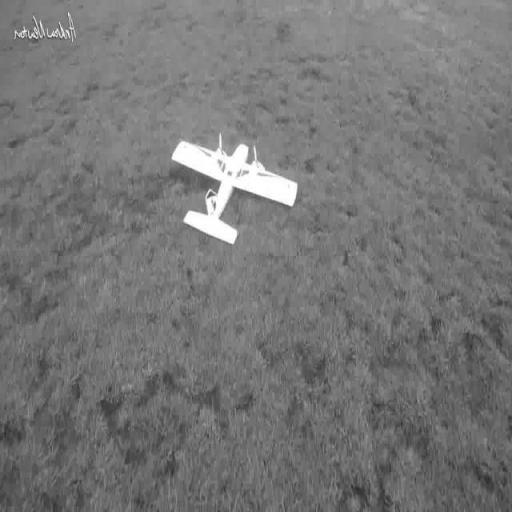uav: (166, 120, 302, 257)
